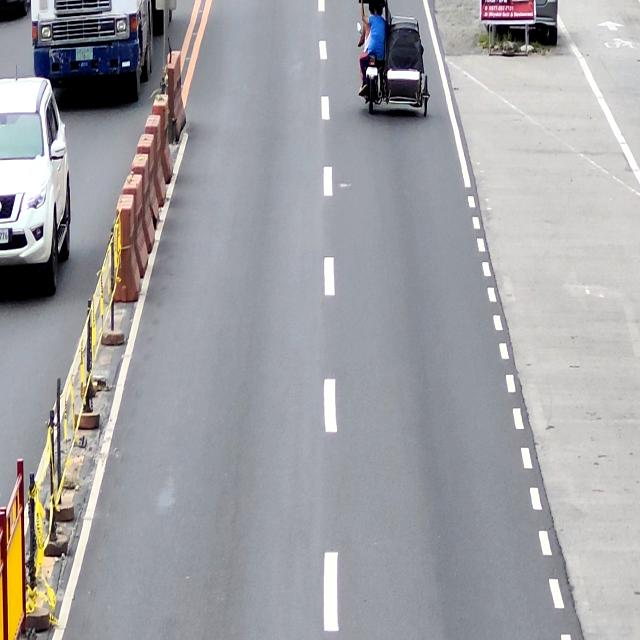License-Plate: (366, 66, 378, 76)
Tricycle: (358, 0, 430, 117)
